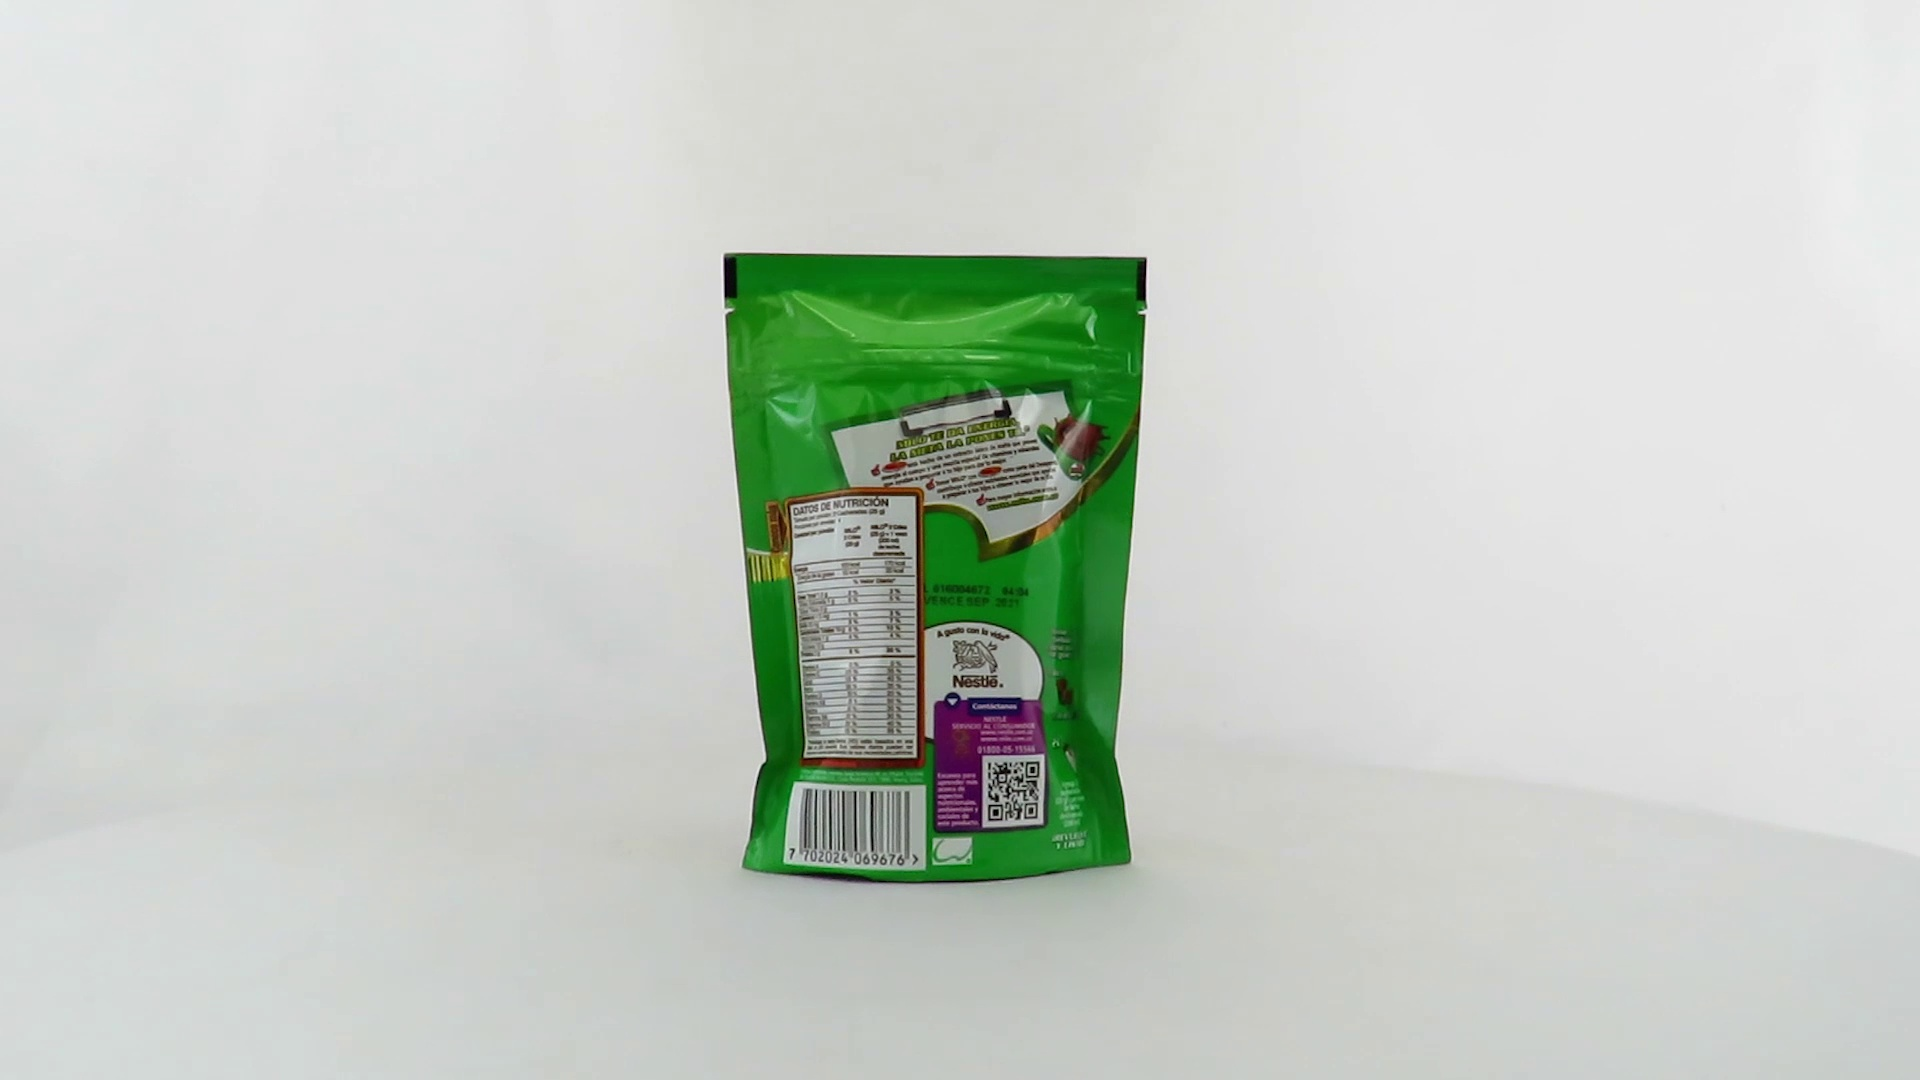COL0170203DYP10000: (717, 247, 1154, 890)
